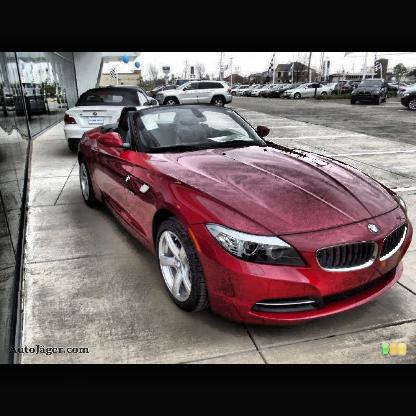BMW Z4 Convertible 2012: (76, 107, 413, 328)
